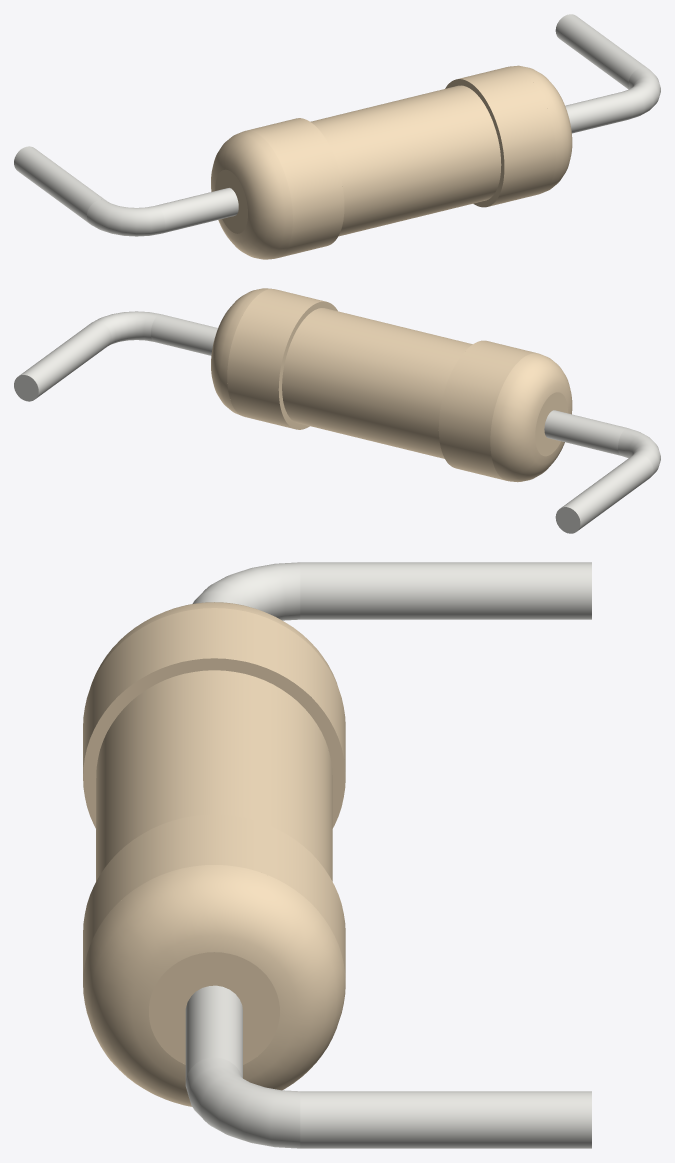
File: R_Axial_DIN0309_L9.0mm_D3.2mm_P15.24mm_Horizontal.glb
3 renders of one model, top to bottom at view 1: azimuth 30°, elevation 25°; view 2: azimuth 150°, elevation 25°; view 3: azimuth 270°, elevation 25°, orthographic. The views are drawn at different scales.
Parts seen in each view (by area): view 1: Shape_IndexedFaceSet.004, Shape_IndexedFaceSet, Shape_IndexedFaceSet.008, Shape_IndexedFaceSet.001, Shape_IndexedFaceSet.015, Shape_IndexedFaceSet.009, Shape_IndexedFaceSet.005, Shape_IndexedFaceSet.007, Shape_IndexedFaceSet.010, Shape_IndexedFaceSet.013, Shape_IndexedFaceSet.014, Shape_IndexedFaceSet.003 (+1 smaller); view 2: Shape_IndexedFaceSet.004, Shape_IndexedFaceSet, Shape_IndexedFaceSet.008, Shape_IndexedFaceSet.001, Shape_IndexedFaceSet.009, Shape_IndexedFaceSet.015, Shape_IndexedFaceSet.005, Shape_IndexedFaceSet.010, Shape_IndexedFaceSet.013, Shape_IndexedFaceSet.014, Shape_IndexedFaceSet.007, Shape_IndexedFaceSet.003 (+3 smaller); view 3: Shape_IndexedFaceSet.010, Shape_IndexedFaceSet.004, Shape_IndexedFaceSet.009, Shape_IndexedFaceSet.015, Shape_IndexedFaceSet, Shape_IndexedFaceSet.008, Shape_IndexedFaceSet.012, Shape_IndexedFaceSet.014, Shape_IndexedFaceSet.002, Shape_IndexedFaceSet.013, Shape_IndexedFaceSet.007, Shape_IndexedFaceSet.001.
Boxes of the visible parts, x1=… form: Shape_IndexedFaceSet.004: x1=310, y1=85, x2=501, y2=236; Shape_IndexedFaceSet: x1=245, y1=118, x2=344, y2=258; Shape_IndexedFaceSet.008: x1=457, y1=66, x2=555, y2=206; Shape_IndexedFaceSet.001: x1=211, y1=130, x2=292, y2=259; Shape_IndexedFaceSet.015: x1=555, y1=14, x2=647, y2=89; Shape_IndexedFaceSet.009: x1=14, y1=146, x2=106, y2=223; Shape_IndexedFaceSet.005: x1=156, y1=188, x2=238, y2=233; Shape_IndexedFaceSet.007: x1=87, y1=199, x2=165, y2=236; Shape_IndexedFaceSet.010: x1=510, y1=65, x2=572, y2=192; Shape_IndexedFaceSet.013: x1=565, y1=92, x2=632, y2=133; Shape_IndexedFaceSet.014: x1=622, y1=67, x2=660, y2=119; Shape_IndexedFaceSet.003: x1=215, y1=169, x2=247, y2=233; Shape_IndexedFaceSet.004: x1=282, y1=308, x2=472, y2=458; Shape_IndexedFaceSet: x1=438, y1=340, x2=535, y2=480; Shape_IndexedFaceSet.008: x1=227, y1=289, x2=325, y2=428; Shape_IndexedFaceSet.001: x1=490, y1=353, x2=572, y2=482; Shape_IndexedFaceSet.009: x1=561, y1=453, x2=653, y2=531; Shape_IndexedFaceSet.015: x1=19, y1=321, x2=111, y2=398; Shape_IndexedFaceSet.005: x1=544, y1=410, x2=627, y2=455; Shape_IndexedFaceSet.010: x1=211, y1=288, x2=271, y2=415; Shape_IndexedFaceSet.013: x1=151, y1=314, x2=217, y2=355; Shape_IndexedFaceSet.014: x1=92, y1=311, x2=160, y2=345; Shape_IndexedFaceSet.007: x1=618, y1=428, x2=660, y2=476; Shape_IndexedFaceSet.003: x1=535, y1=392, x2=567, y2=456; Shape_IndexedFaceSet.010: x1=83, y1=865, x2=345, y2=1106; Shape_IndexedFaceSet.004: x1=96, y1=670, x2=332, y2=881; Shape_IndexedFaceSet.009: x1=300, y1=562, x2=591, y2=619; Shape_IndexedFaceSet.015: x1=300, y1=1091, x2=591, y2=1148; Shape_IndexedFaceSet: x1=83, y1=608, x2=345, y2=773; Shape_IndexedFaceSet.008: x1=83, y1=814, x2=345, y2=979; Shape_IndexedFaceSet.012: x1=149, y1=952, x2=279, y2=1064; Shape_IndexedFaceSet.014: x1=185, y1=1057, x2=300, y2=1148; Shape_IndexedFaceSet.002: x1=83, y1=658, x2=345, y2=828; Shape_IndexedFaceSet.013: x1=185, y1=985, x2=242, y2=1079; Shape_IndexedFaceSet.007: x1=192, y1=562, x2=300, y2=620; Shape_IndexedFaceSet.001: x1=90, y1=602, x2=337, y2=686.
Bounding box in the file's own units: 6.27 × 1.26 × 2.44.
